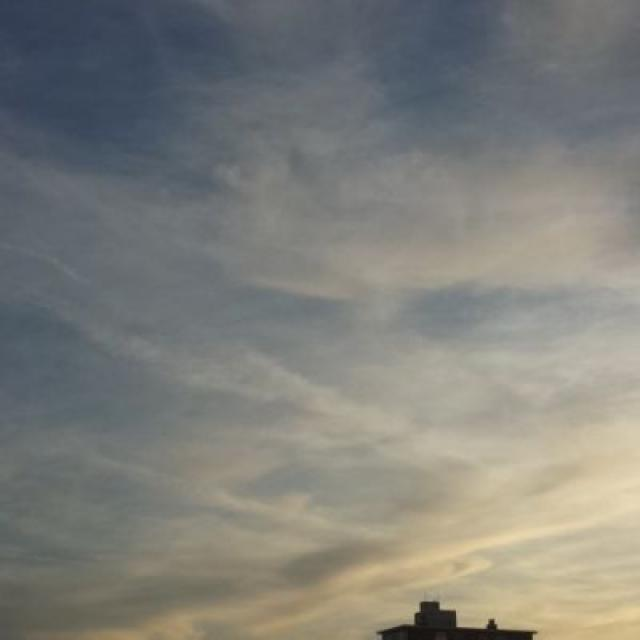Ct: (7, 57, 640, 510)
